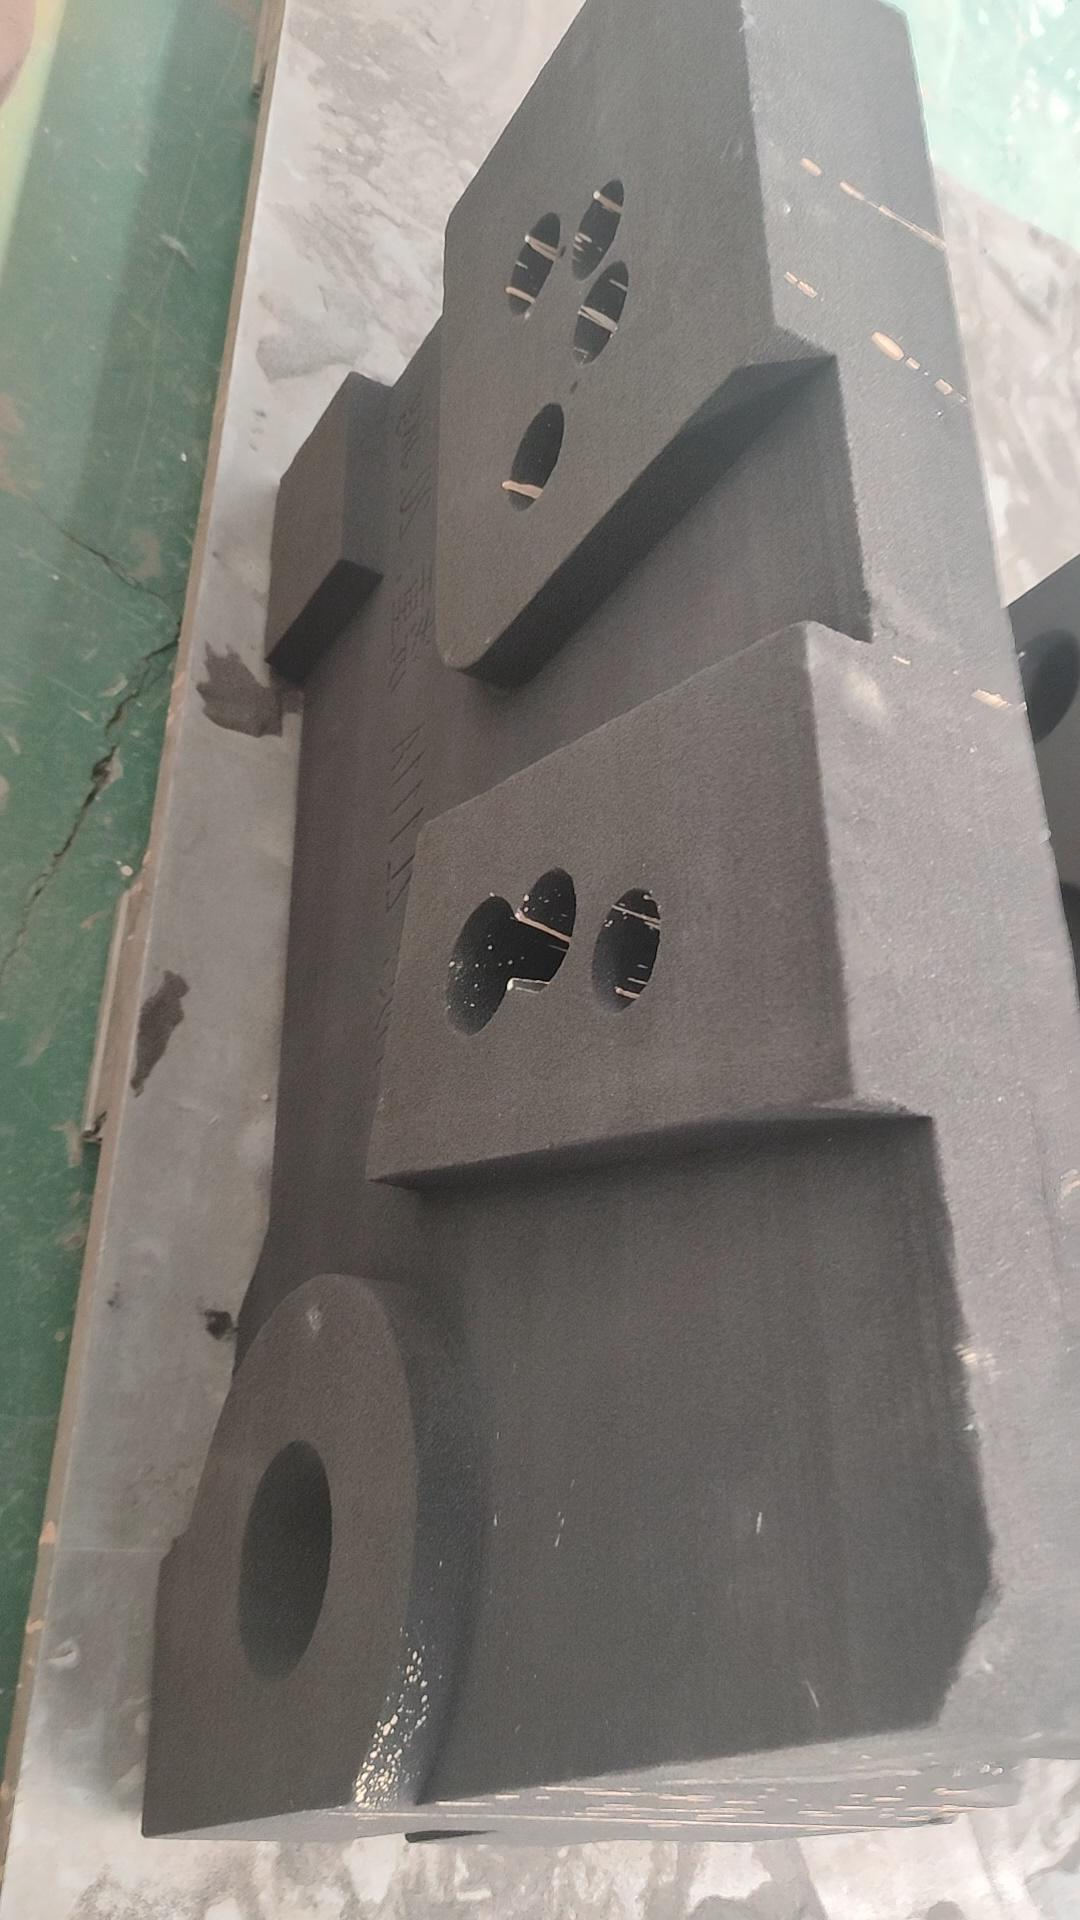pouring hole: (235, 1437, 334, 1687), (1006, 625, 1079, 746)
